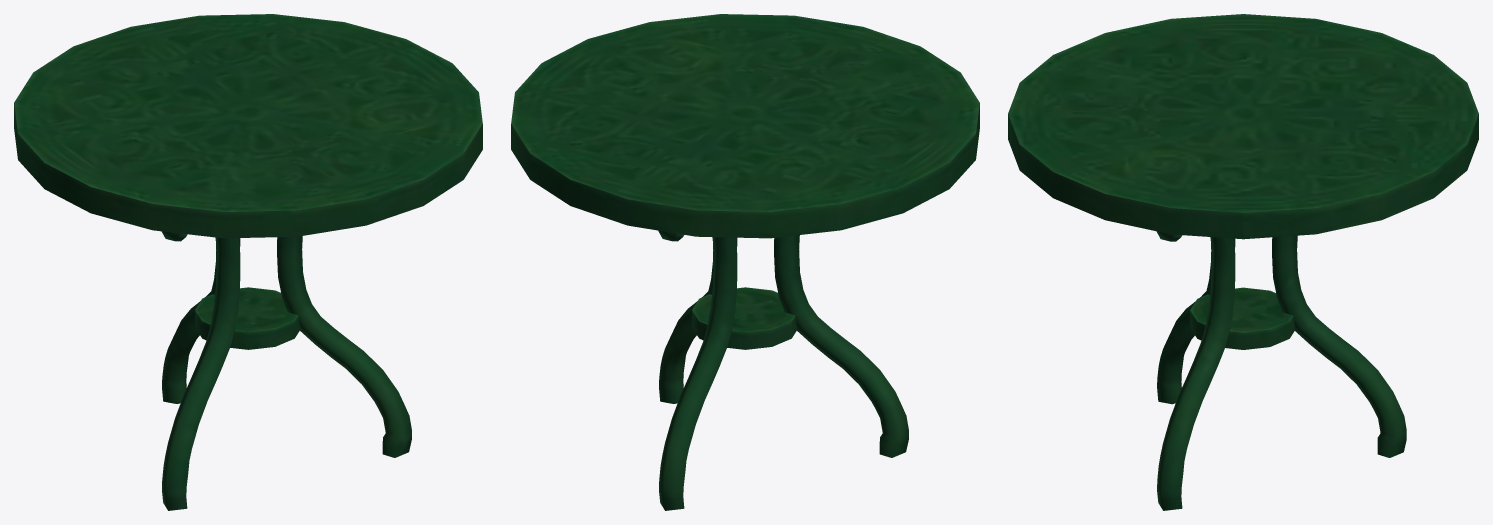
Rendered from iron-table.glb.
3 renders of one model, left to right at view 1: azimuth 30°, elevation 25°; view 2: azimuth 150°, elevation 25°; view 3: azimuth 270°, elevation 25°, orthographic.
Bounding box in the file's own units: 9.2 × 7.31 × 9.2.
1 material, 1 textured.
